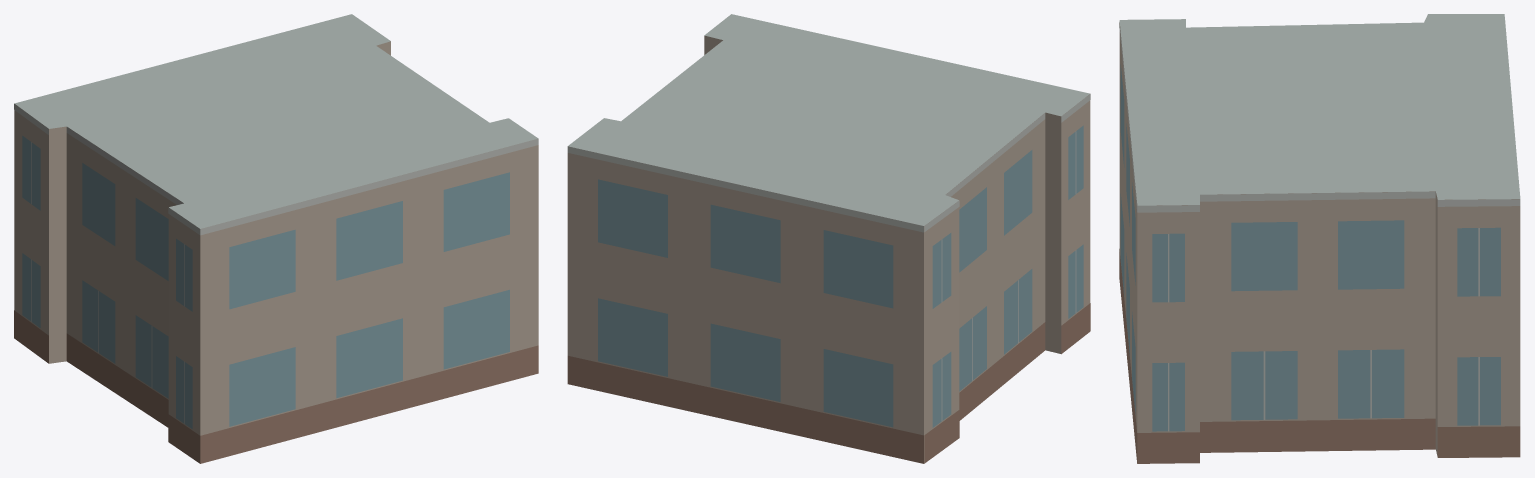
Rendered from survey-upis-32850802.glb.
The picture shows the model from 3 angles, left to right: view 1: azimuth 30°, elevation 25°; view 2: azimuth 150°, elevation 25°; view 3: azimuth 270°, elevation 25°; orthographic projection. The views are drawn at different scales.
Visible parts, largest first — view 1: survey-upis-32850802.tmp; view 2: survey-upis-32850802.tmp; view 3: survey-upis-32850802.tmp.
Boxes of the visible parts, x1,y1,x2,y2 form: survey-upis-32850802.tmp: [14, 14, 538, 463]; survey-upis-32850802.tmp: [567, 14, 1090, 463]; survey-upis-32850802.tmp: [1119, 14, 1520, 463].
Bounding box in the file's own units: 14.27 × 8.95 × 12.61.
